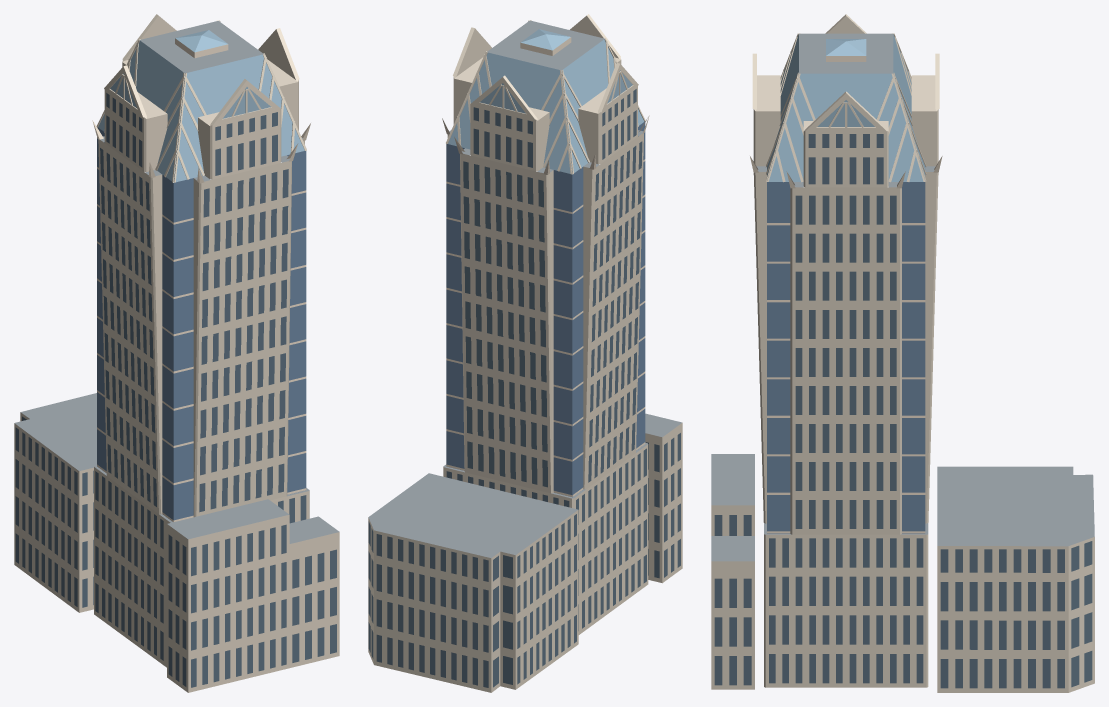
Rendered from truist-center-charlotte.glb.
The picture shows the model from 3 angles, left to right: view 1: azimuth 30°, elevation 25°; view 2: azimuth 150°, elevation 25°; view 3: azimuth 270°, elevation 25°; orthographic projection. The views are drawn at different scales.
Visible parts, largest first — view 1: Truist Center; view 2: Truist Center; view 3: Truist Center.
Part boxes in pixels (<box>): Truist Center: <box>14,14,339,692</box>; Truist Center: <box>368,14,682,692</box>; Truist Center: <box>711,14,1094,692</box>.
Bounding box in the file's own units: 57.2 × 200 × 114.
